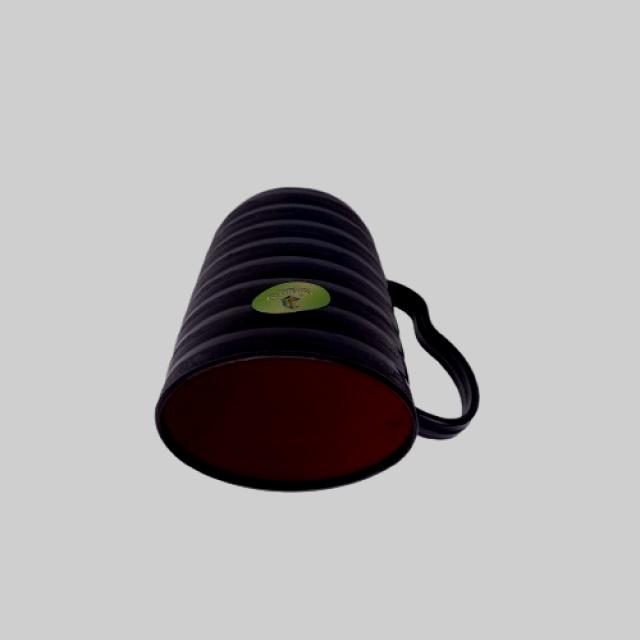Cangkir: (131, 179, 506, 506)
